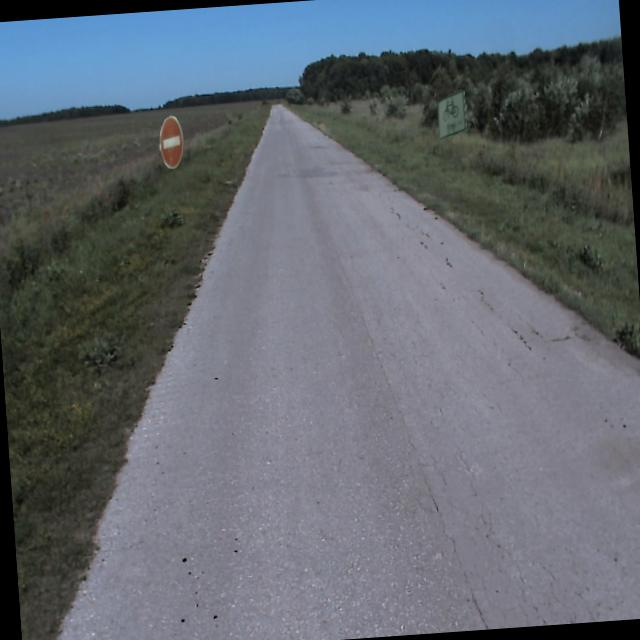road: (58, 102, 640, 640)
